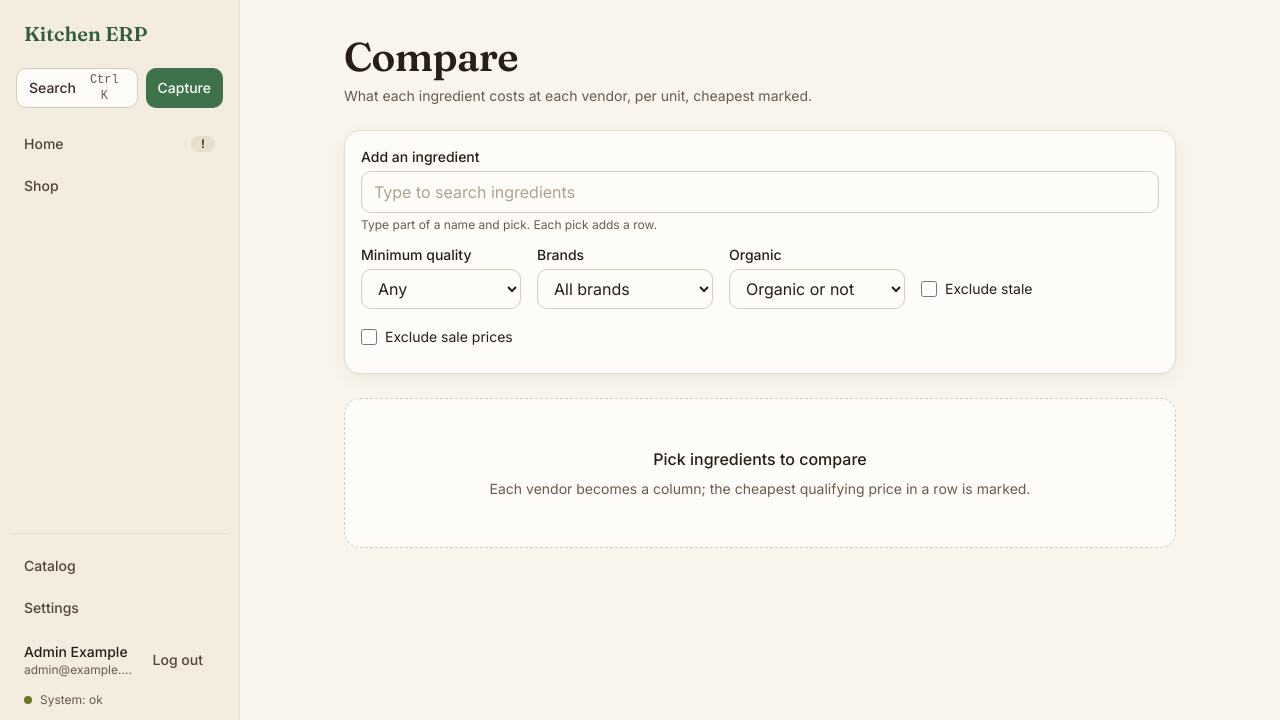
Test: comparison matrix › re-queries with the filters and lists the chosen ingredients with a remove button
The width and height of the screenshot is (1280, 720).
Type "flour" into the dropdown labelled "Add an ingredient" at (760, 192), box [361,171,1159,213]
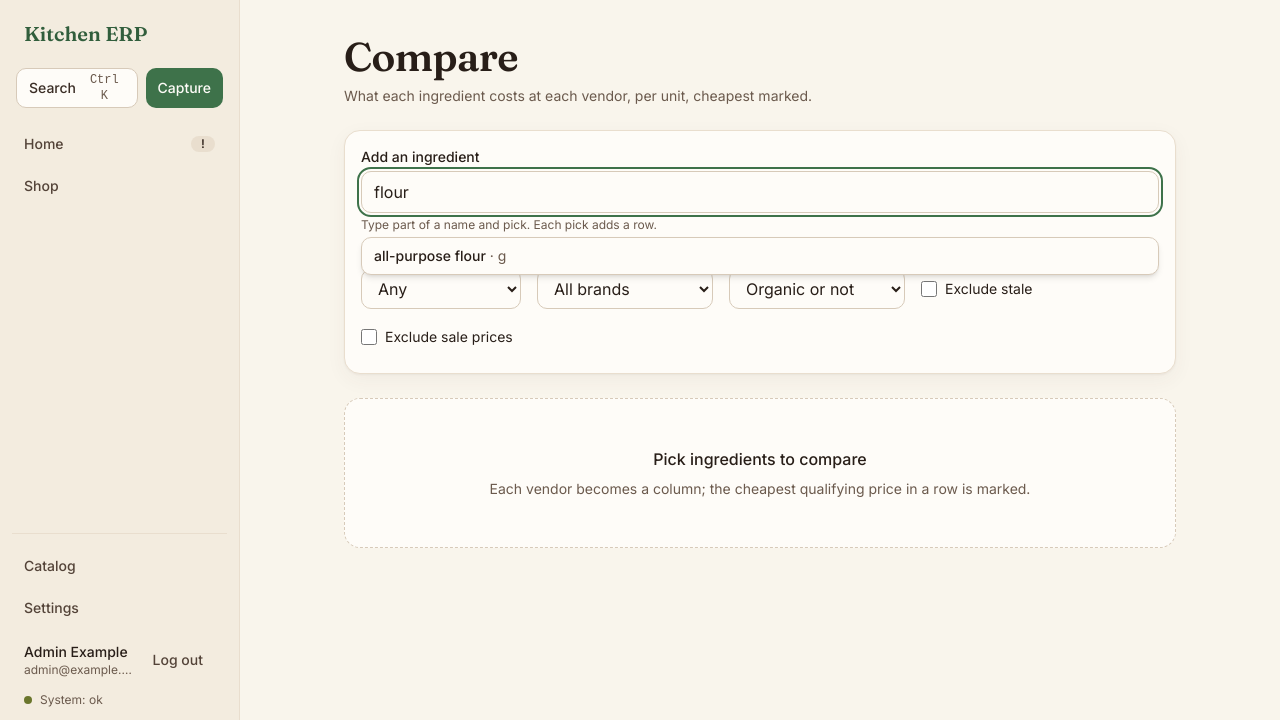
Click the option "all-purpose flour · g" at (440, 256), box [374,247,506,264]
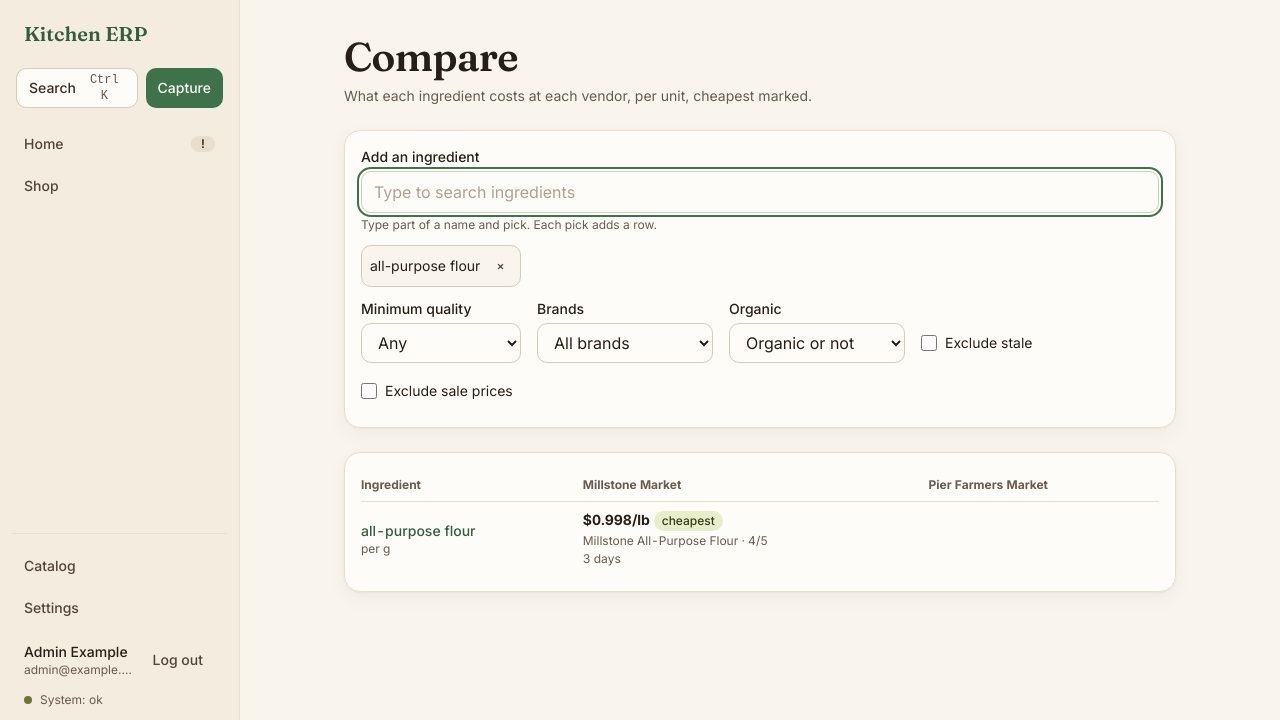
Expected: the table named "Price comparison" is shown, [361,469,1159,575]
Expected: the list item "all-purpose flour" is shown, [370,257,480,274]
Click the checkbox labelled "Exclude stale" at (929, 343), box [921,335,937,351]
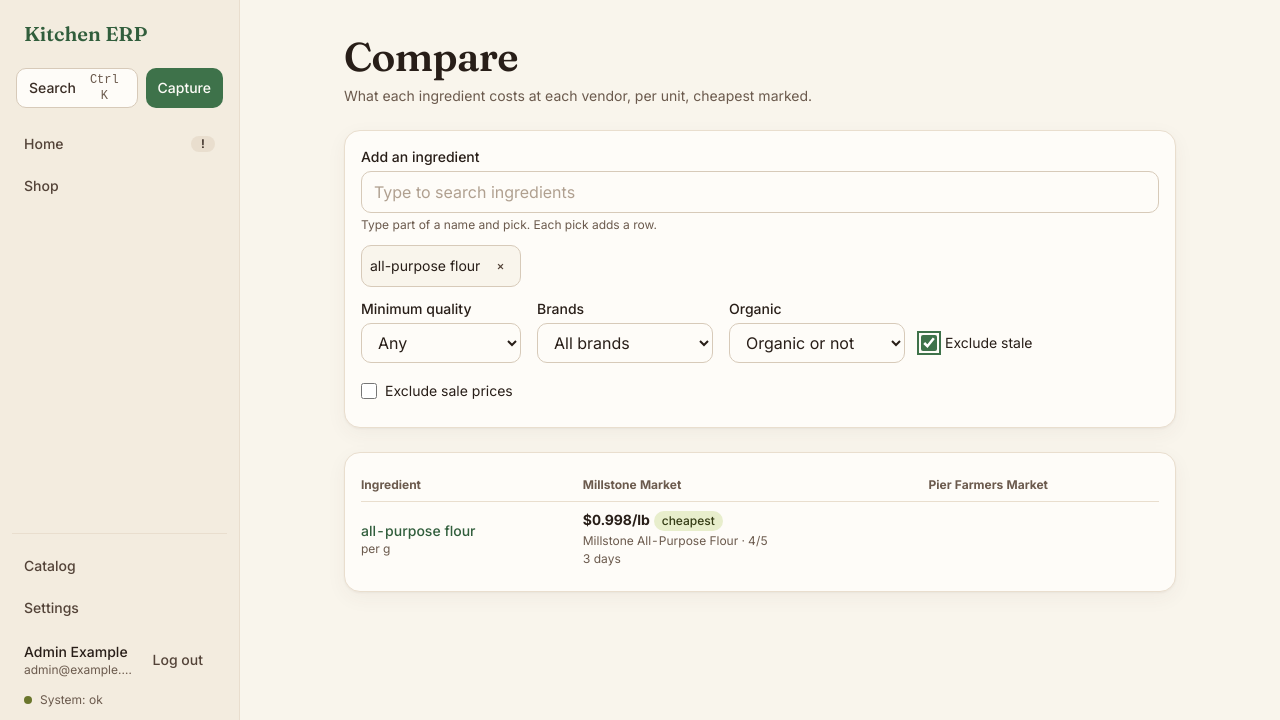
Select "4/5 or better" in the dropdown labelled "Minimum quality" at (441, 343), box [361,323,521,363]
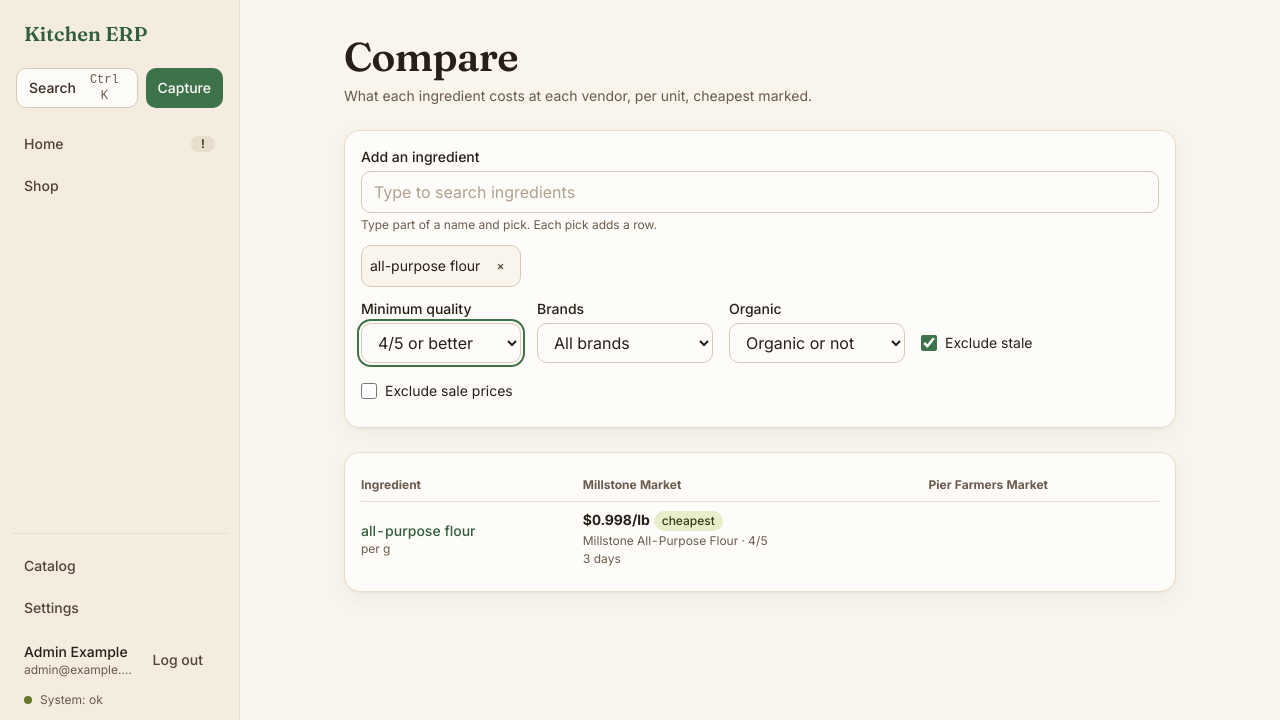
Click the button named "Remove all-purpose flour" at (500, 266), box [484,250,516,282]
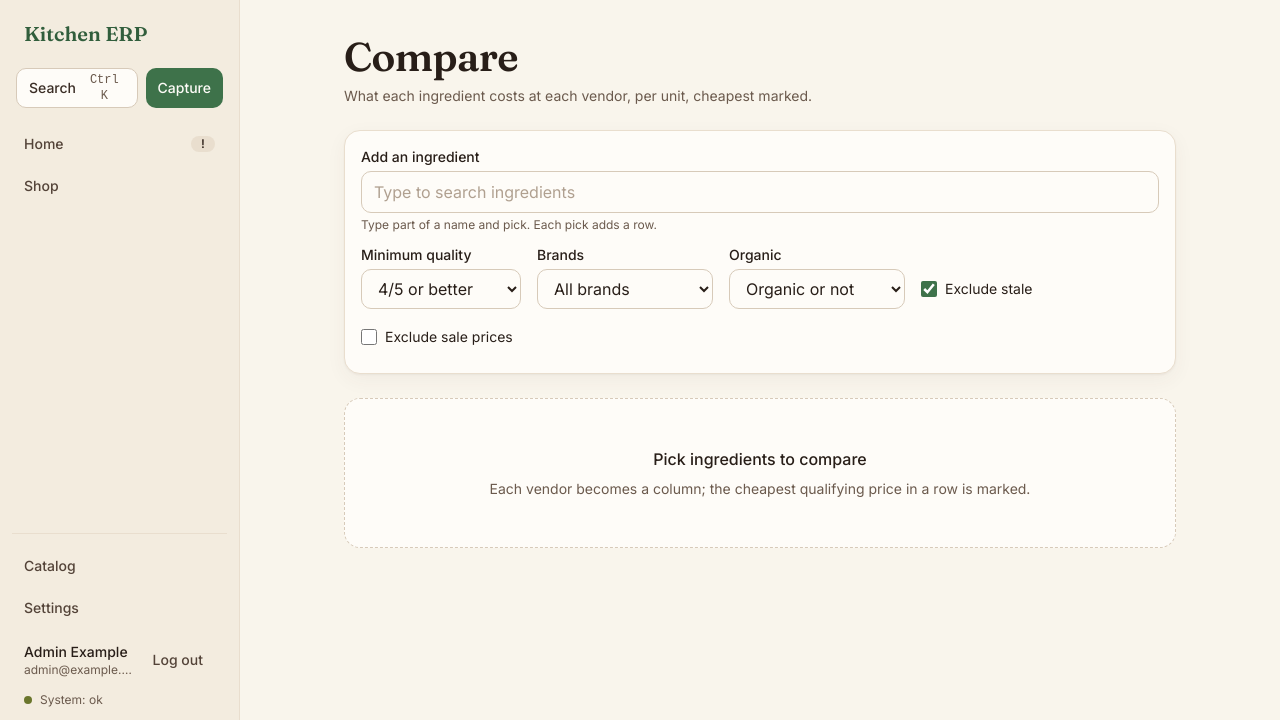
Expected: the text "Pick ingredients to compare" is shown, [653,449,867,469]
